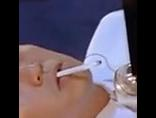Cigarette: (55, 58, 102, 76)
